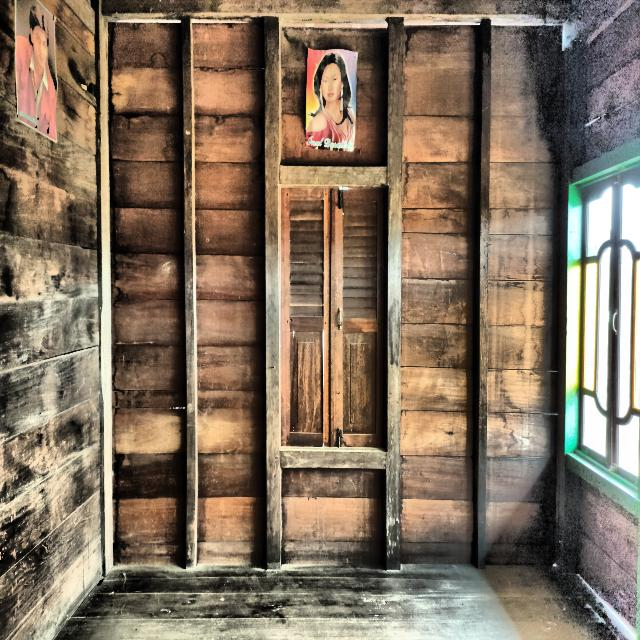wall: (107, 22, 567, 567), (0, 0, 101, 640)
window: (280, 183, 387, 452), (575, 161, 640, 492)
